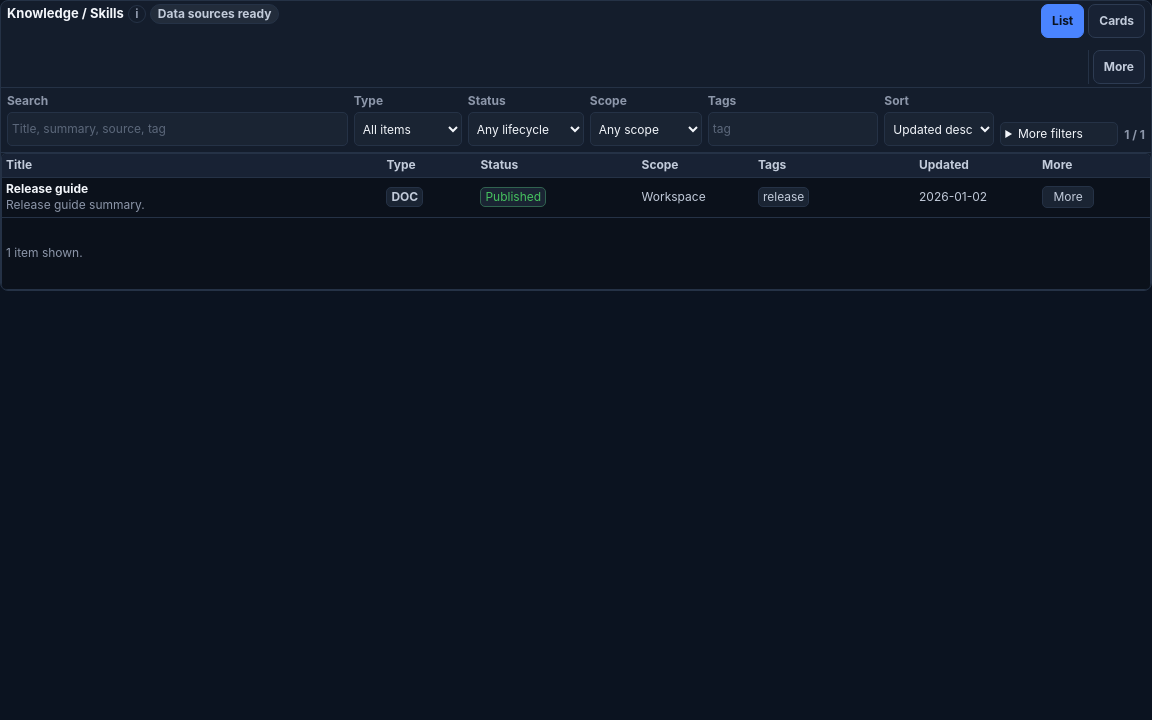
Test: KnowledgeV2 Use as Context popup › opens as a bounded floating popup with body content and sticky actions
What coordinates should you click on to do the following:
click the cell "Release guide Release guide summary."
I would click on:
 (47, 188)
Its box is [2,178,382,217].
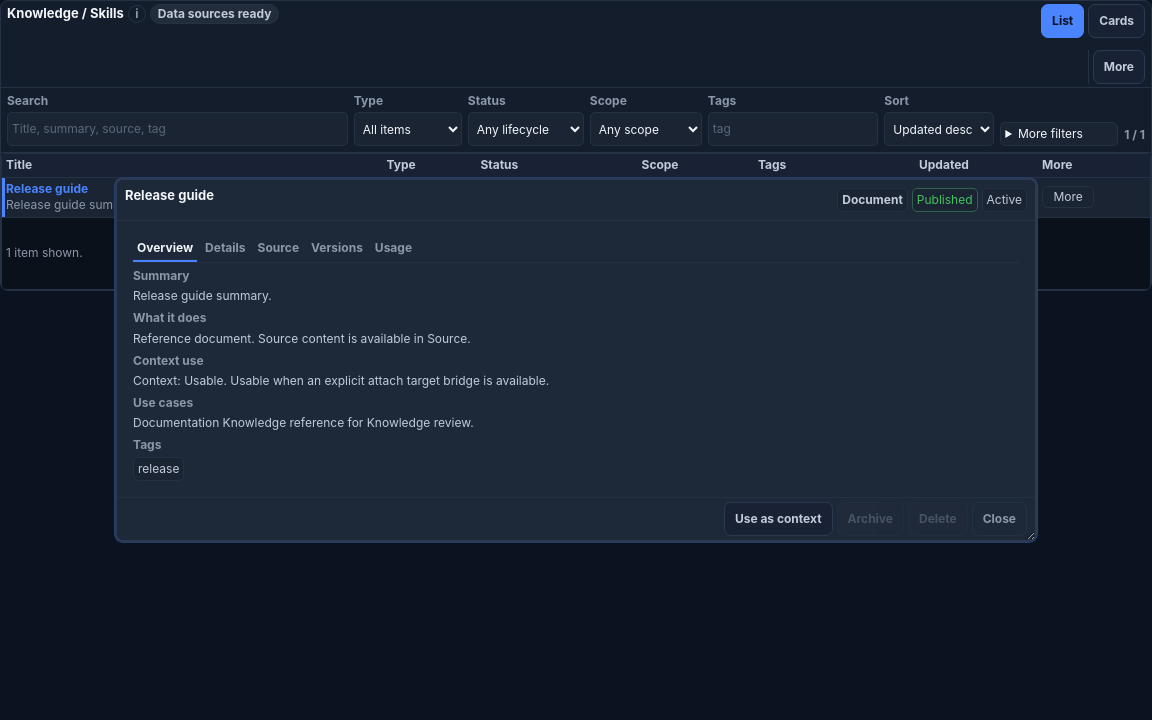
Expected: the button "Use as context" is shown
What coordinates should you click on to do the following:
click the button "Use as context"
I would click on:
 (778, 519)
Its box is [724,502,832,536].
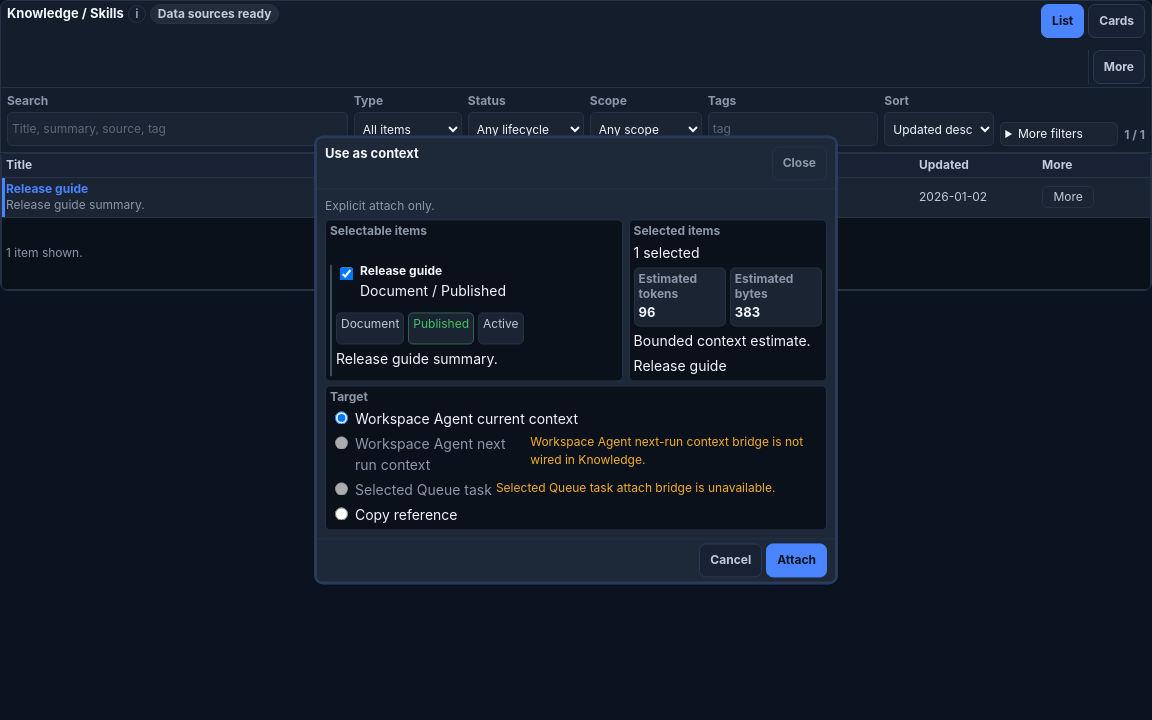
Expected: the header "Use as context Close" is shown, [317,138,835,189]
Expected: the element that starts with "Explicit attach only." shows "Selectable items", [330,223,427,238]
Expected: the element that starts with "Explicit attach only." shows "Selected items", [634,223,720,238]
